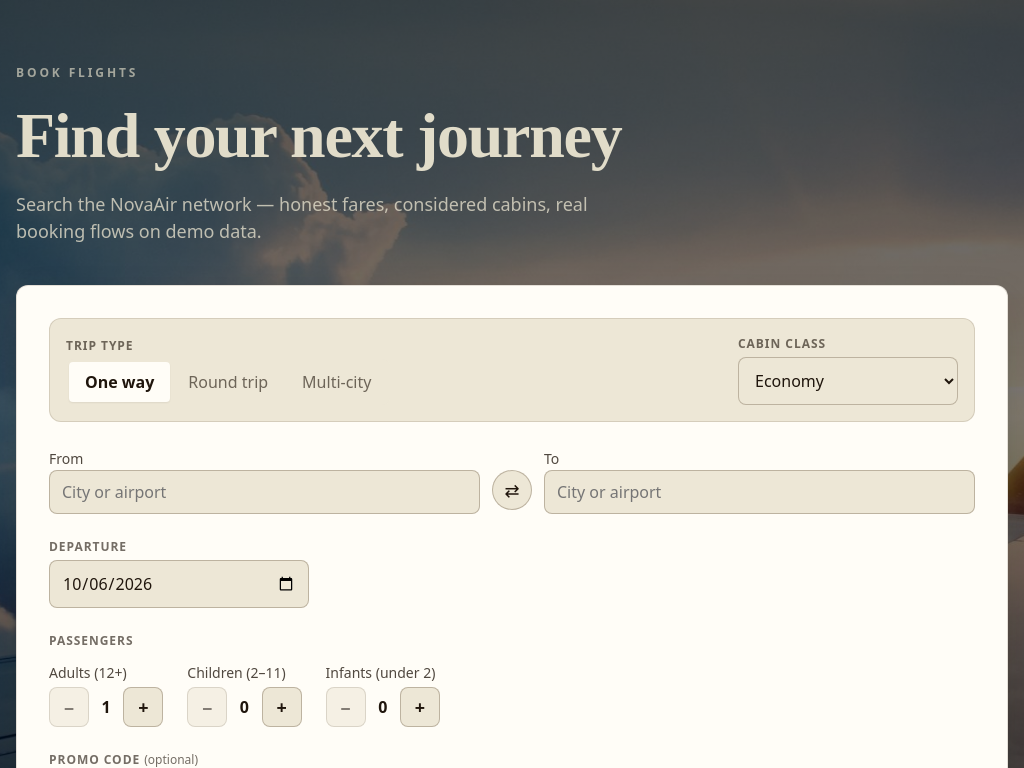
Test: SearchPage › loads airports from the flight service and offers them in the autocomplete
This screenshot has width=1024, height=768.
Type "FRA" into the dropdown labelled "From" at x=264, y=492, box 49,470 -> 480,514
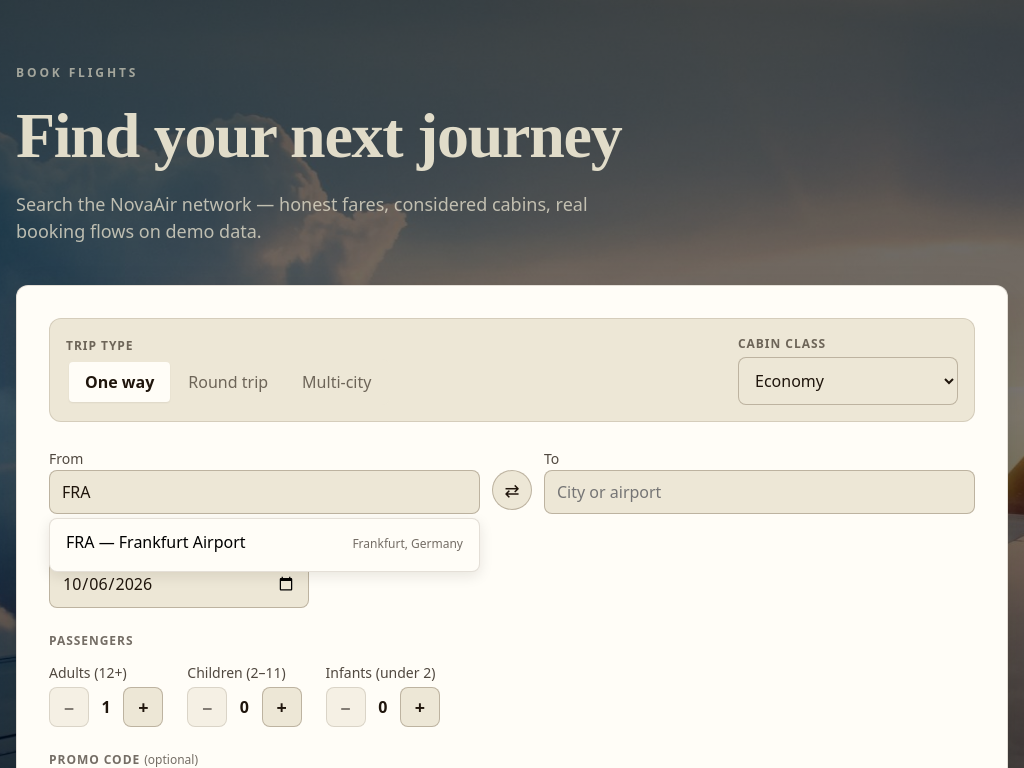
Result: the button with class "ac__option" shows "FRA — Frankfurt Airport" at 54,523 -> 475,567
Result: the button with class "ac__option" shows "Frankfurt, Germany" at 54,523 -> 475,567
